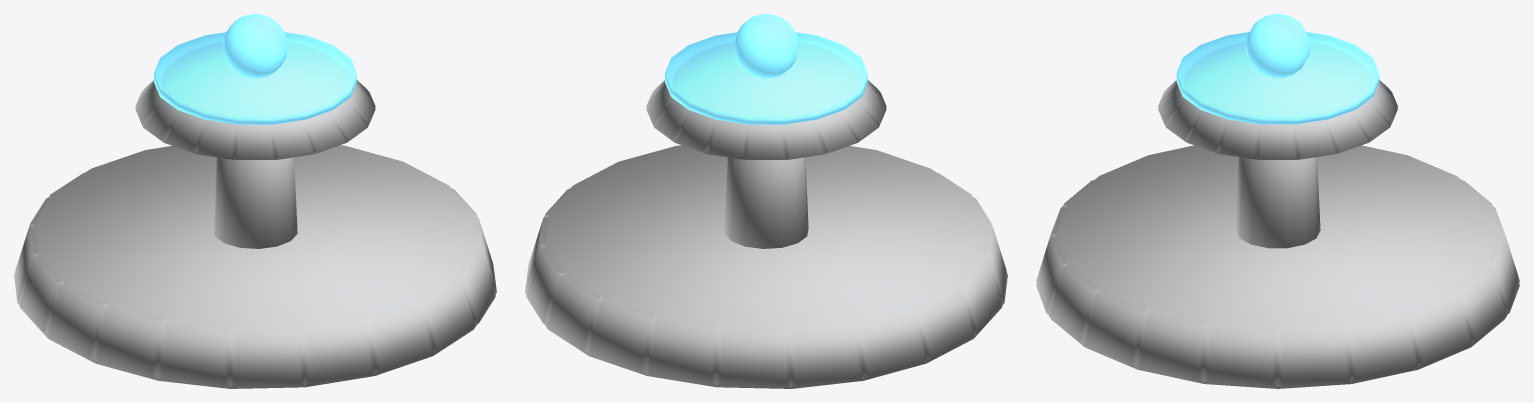
Rendered from garden-fountain.glb.
The picture shows the model from 3 angles, left to right: view 1: azimuth 30°, elevation 25°; view 2: azimuth 150°, elevation 25°; view 3: azimuth 270°, elevation 25°; orthographic projection.
Parts seen in each view (by area): view 1: GardenFountain; view 2: GardenFountain; view 3: GardenFountain.
Boxes of the visible parts, x1=… form: GardenFountain: x1=14, y1=14, x2=496, y2=388; GardenFountain: x1=525, y1=14, x2=1007, y2=388; GardenFountain: x1=1036, y1=14, x2=1519, y2=388.
Bounding box in the file's own units: 2.67 × 1.66 × 2.67.
